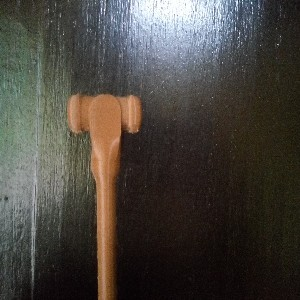palu: (66, 92, 141, 300)
